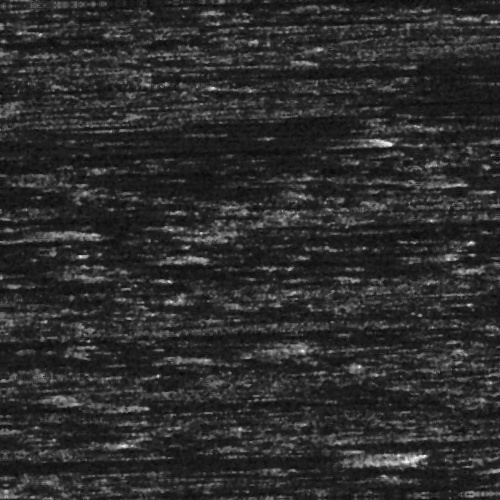object: (388, 16, 500, 29), (84, 394, 167, 411), (312, 454, 417, 467), (312, 135, 395, 144), (128, 251, 211, 258), (436, 270, 500, 277)
shadow: (77, 454, 364, 467), (274, 16, 450, 29), (214, 72, 500, 79), (198, 270, 473, 277), (25, 394, 125, 411), (170, 135, 353, 144), (293, 68, 500, 75), (73, 251, 169, 258), (422, 442, 500, 449)
